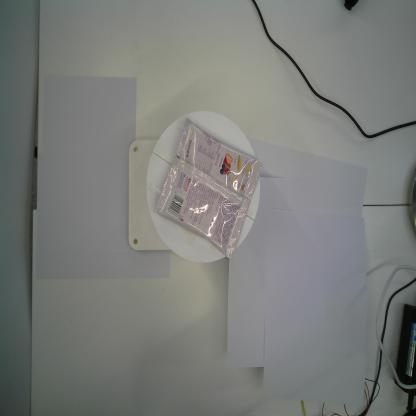Instant Drink: (153, 117, 263, 260)
